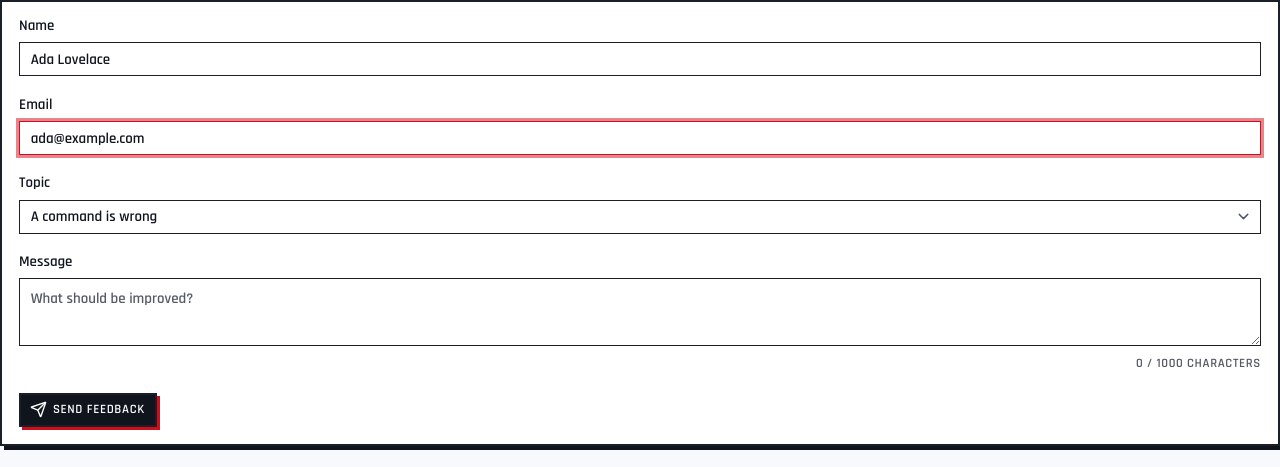
it: FeedbackForm › submits valid data and shows the receipt
Earlier steps of the test are not shown.
Type "The rebase step needs a warning." into the text box labelled "Message". click: (640, 312)
box: [19,278,1261,346]
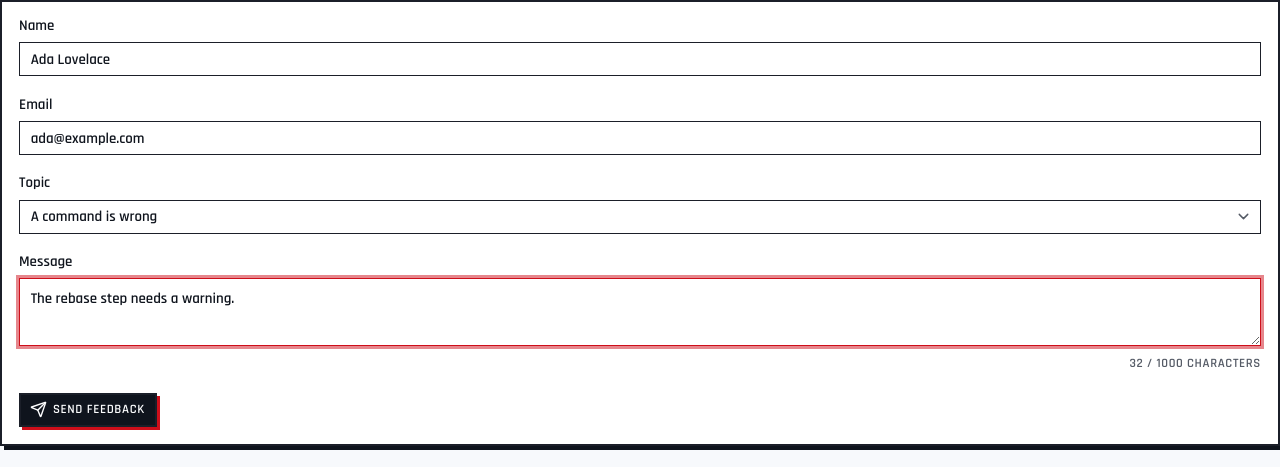
Click the button "Send feedback". click: (88, 410)
box: [19,393,158,427]
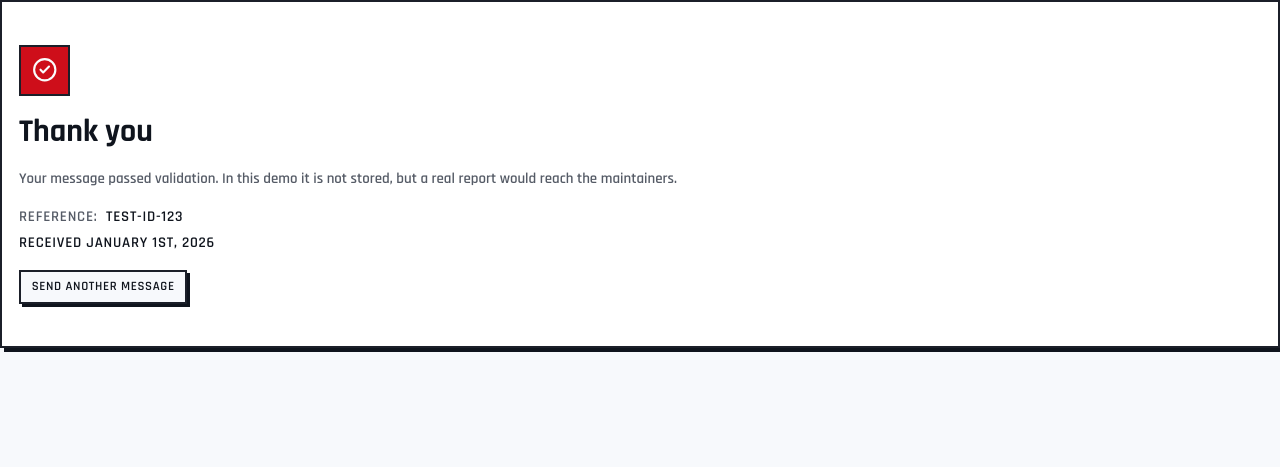
Expected: the message shows "Thank you", [19,110,153,152]
Expected: the message shows "test-id-123", [106,207,183,226]
Expected: the message shows "2026", [19,232,215,252]
